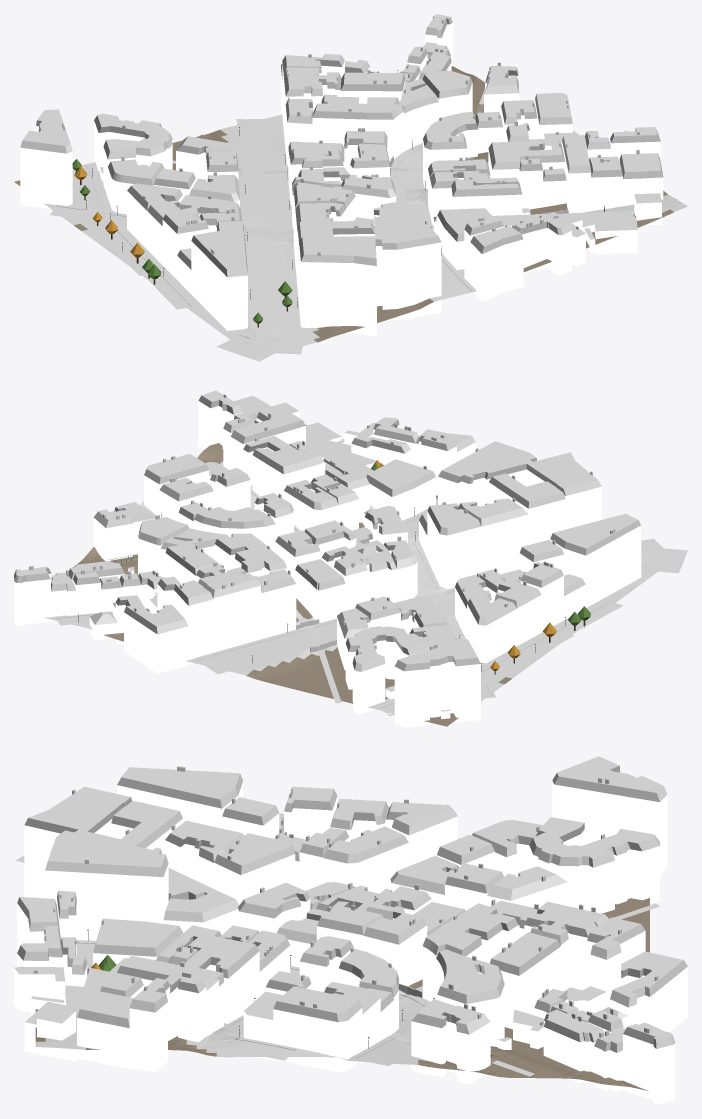
The model's file is zone_B5.glb.
3 views of the same model, one above another, from view 1: azimuth 30°, elevation 25°; view 2: azimuth 150°, elevation 25°; view 3: azimuth 270°, elevation 25° (orthographic). The views are drawn at different scales.
Parts seen in each view (by area): view 1: zone_B5_batiments, zone_B5_sol_NOCOL, zone_B5_terrain, zone_B5_decor_NOCOL; view 2: zone_B5_batiments, zone_B5_sol_NOCOL, zone_B5_terrain, zone_B5_decor_NOCOL; view 3: zone_B5_batiments, zone_B5_terrain, zone_B5_sol_NOCOL.
Part boxes in pixels (bbox=[...]): zone_B5_batiments: bbox=[20, 14, 663, 336]; zone_B5_sol_NOCOL: bbox=[50, 89, 677, 361]; zone_B5_terrain: bbox=[14, 66, 687, 345]; zone_B5_decor_NOCOL: bbox=[72, 70, 604, 327]; zone_B5_batiments: bbox=[14, 390, 641, 727]; zone_B5_sol_NOCOL: bbox=[55, 488, 687, 716]; zone_B5_terrain: bbox=[44, 424, 657, 726]; zone_B5_decor_NOCOL: bbox=[78, 460, 590, 674]; zone_B5_batiments: bbox=[14, 756, 687, 1104]; zone_B5_terrain: bbox=[35, 838, 649, 1091]; zone_B5_sol_NOCOL: bbox=[16, 837, 660, 1076].
Bounding box in the file's own units: 204 × 40 × 201.
